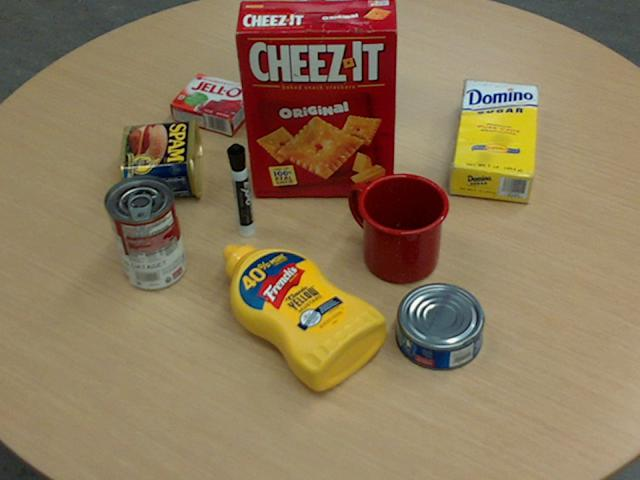cracker_box: (235, 0, 398, 195)
gelatin_box: (167, 71, 257, 135)
large_marker: (226, 143, 254, 238)
master_chef_can: (294, 0, 380, 125)
mug: (349, 172, 449, 282)
mustard_bottle: (221, 244, 385, 390)
potted_meat_can: (120, 116, 202, 199)
sugar_box: (450, 80, 537, 202)
tomato_soup_can: (102, 173, 184, 289)
tuna_fish_can: (396, 282, 485, 369)
